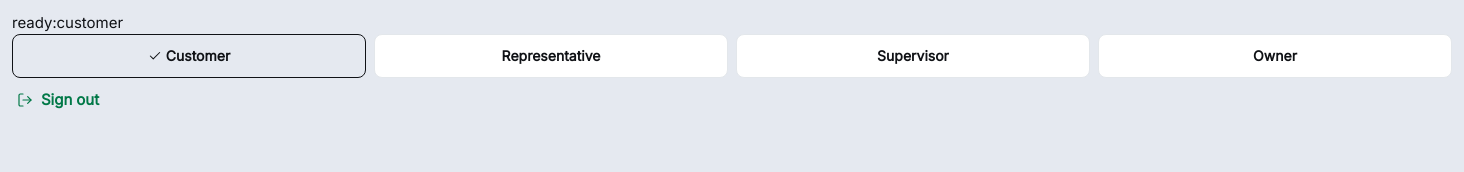
it: session › switching to Riley, demo representative lands on /staff/queue
expect the text with test id "probe" shows "ready": met, box 12,13 -> 52,32
What coordinates should you click on to do the following:
click the radio button with aria-label "Riley, demo representative"
I would click on:
 (551, 56)
Its box is 374,34 -> 728,78.
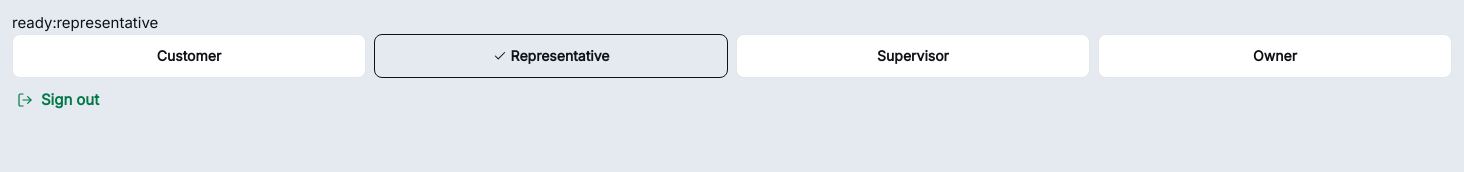
expect the text with test id "probe" reads "ready:representative": met, box 12,13 -> 158,32
